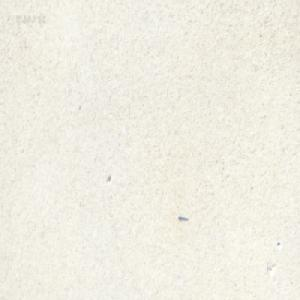Nail: (177, 214, 188, 221)
